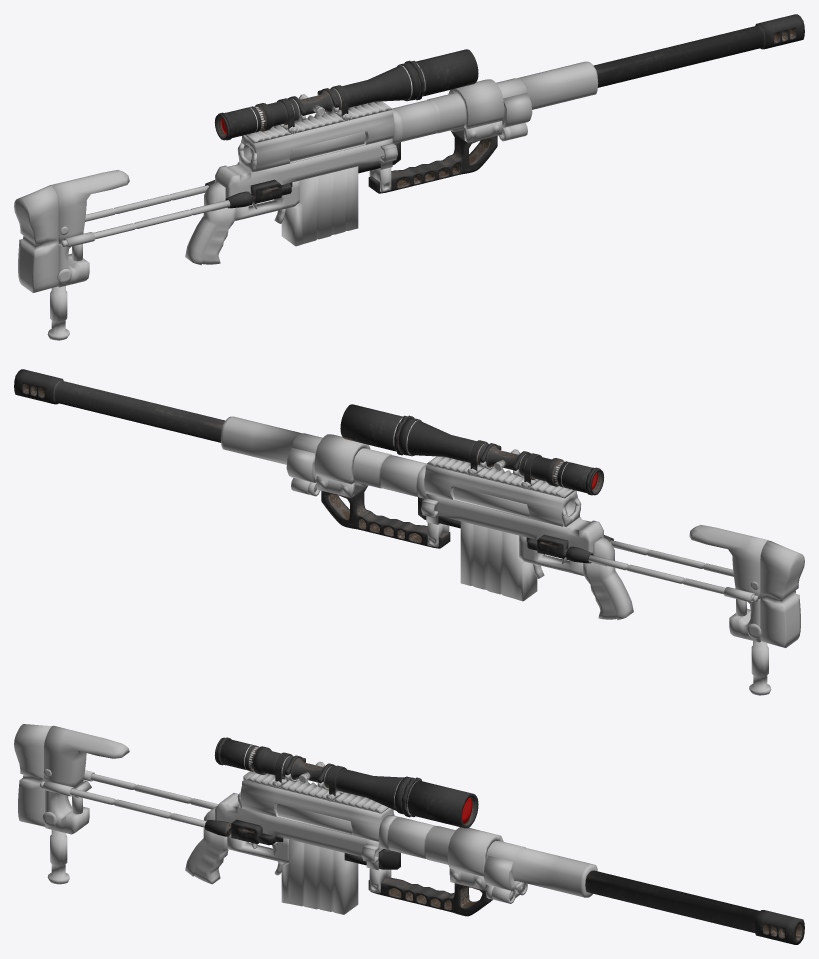
3 renders of one model, top to bottom at view 1: azimuth 30°, elevation 25°; view 2: azimuth 150°, elevation 25°; view 3: azimuth 330°, elevation 25°, orthographic.
Visible parts, largest first — view 1: polySurface8; view 2: polySurface8; view 3: polySurface8.
Boxes of the visible parts, x1,y1,x2,y2 form: polySurface8: [14, 14, 804, 340]; polySurface8: [14, 369, 804, 695]; polySurface8: [14, 724, 804, 944].
Bounding box in the file's own units: 134 × 31.05 × 8.48.
2 materials, 1 textured.
